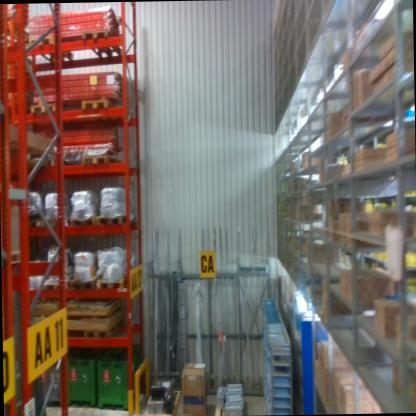pallet: (21, 25, 74, 70), (82, 23, 128, 64), (142, 386, 185, 414), (80, 147, 124, 172), (77, 319, 120, 343), (94, 272, 135, 295), (94, 210, 138, 231), (78, 96, 119, 117), (35, 275, 68, 296), (39, 214, 72, 233), (28, 98, 60, 117), (68, 275, 95, 295), (69, 211, 96, 229)
